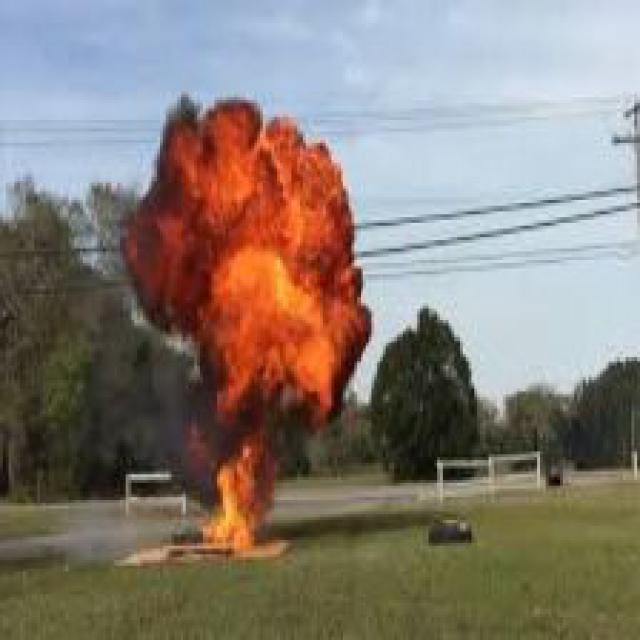fire: (115, 83, 392, 568)
